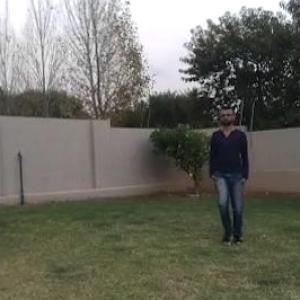follow: (213, 107, 247, 241)
